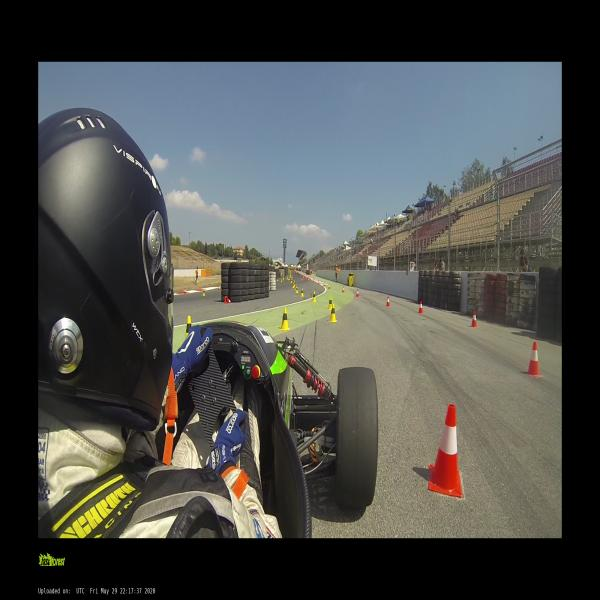orange_cone: (429, 404, 464, 496), (525, 342, 542, 378), (470, 311, 478, 327), (418, 301, 424, 314), (224, 295, 231, 303), (385, 296, 390, 306), (356, 290, 360, 298), (341, 286, 345, 293), (183, 288, 187, 295), (328, 284, 330, 290), (219, 286, 220, 291)
yellow_cone: (279, 307, 290, 331), (328, 304, 337, 322), (186, 315, 192, 339), (327, 296, 334, 310), (312, 291, 316, 302), (300, 288, 304, 296), (295, 286, 298, 293), (202, 290, 205, 296), (292, 283, 295, 288)
